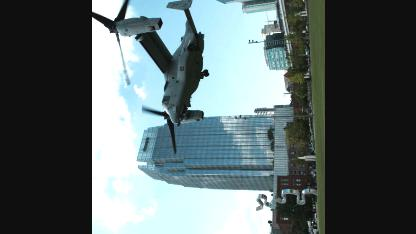Tornado: (92, 0, 210, 157)
